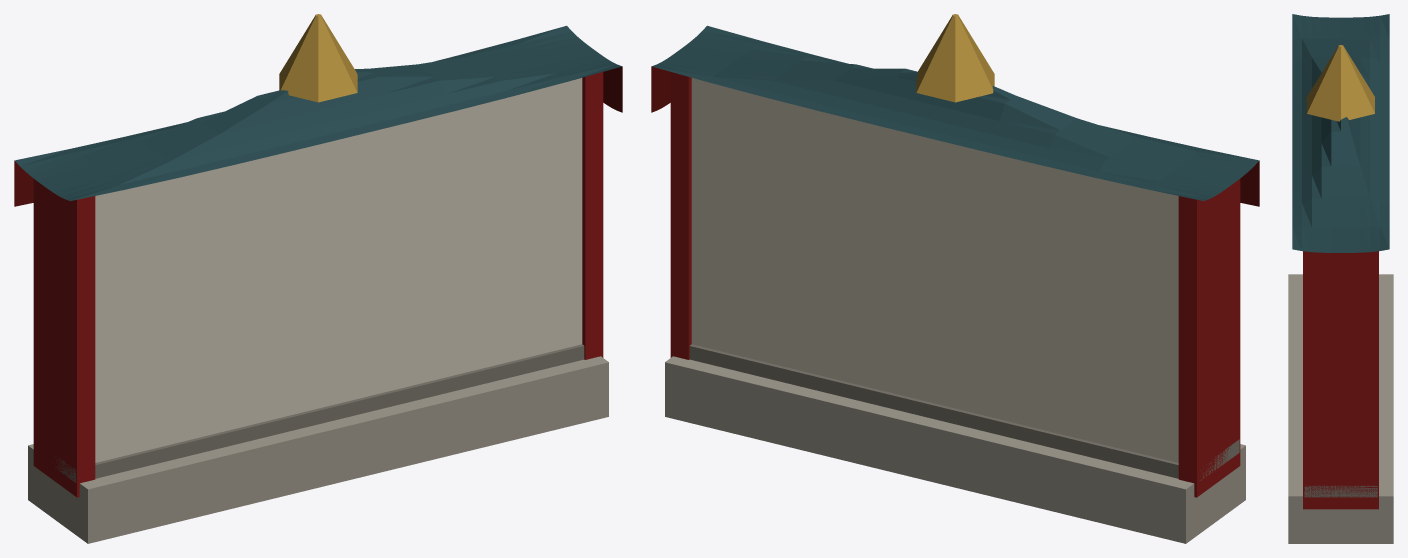
Rendered from garden-wall.glb.
The picture shows the model from 3 angles, left to right: view 1: azimuth 30°, elevation 25°; view 2: azimuth 150°, elevation 25°; view 3: azimuth 270°, elevation 25°; orthographic projection. The views are drawn at different scales.
Parts seen in each view (by area): view 1: wall-section; view 2: wall-section; view 3: wall-section.
Part boxes in pixels (left/top/right/bottom): wall-section: left=14, top=14, right=622, bottom=543; wall-section: left=651, top=14, right=1259, bottom=543; wall-section: left=1288, top=14, right=1393, bottom=543.
Size of the model in its own units: 4.24 by 3.25 by 0.8.
